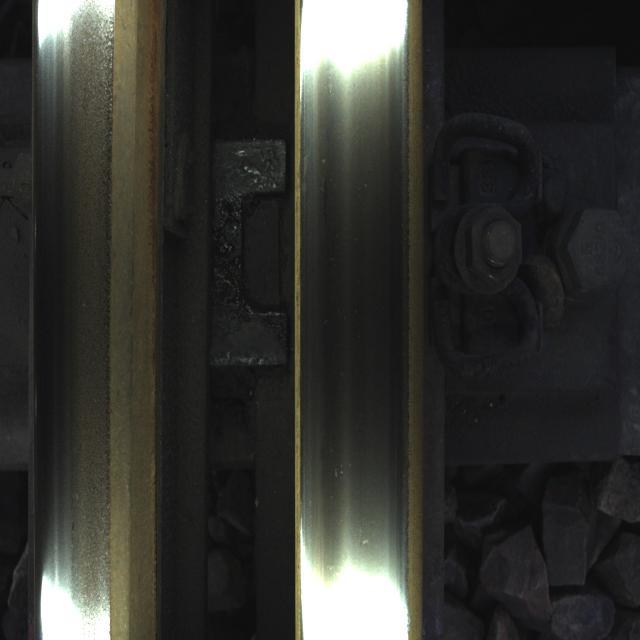break: (308, 18, 392, 612)
